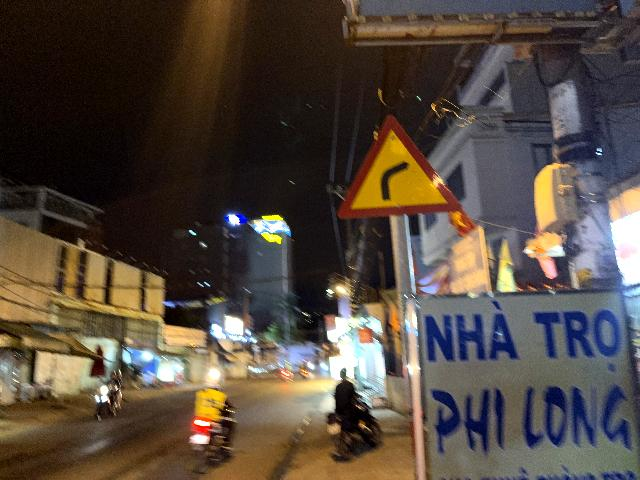cho-ngoat-nguy-hiem-ben-phai: (336, 116, 460, 220)
